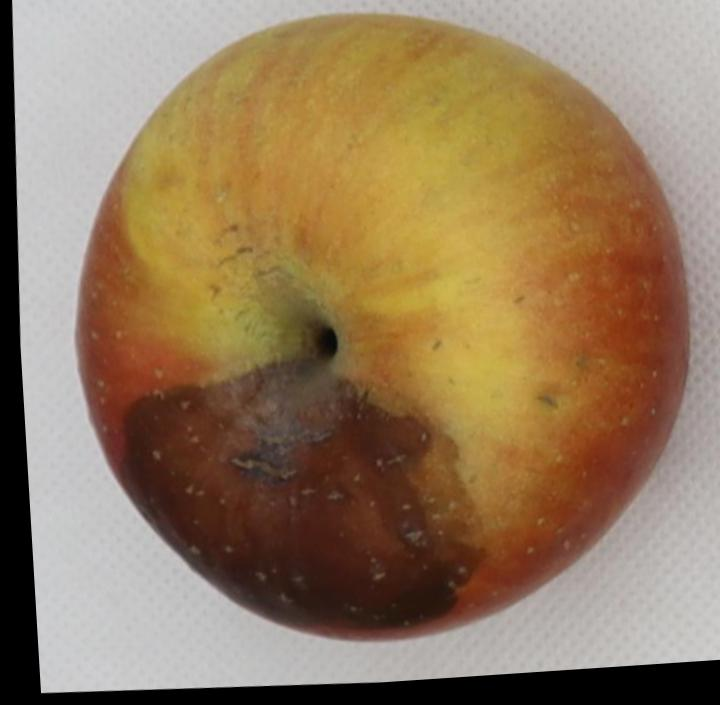apple: (78, 14, 687, 639)
rot_mold_decay: (123, 322, 485, 636)
surface_damage: (538, 394, 558, 407)
